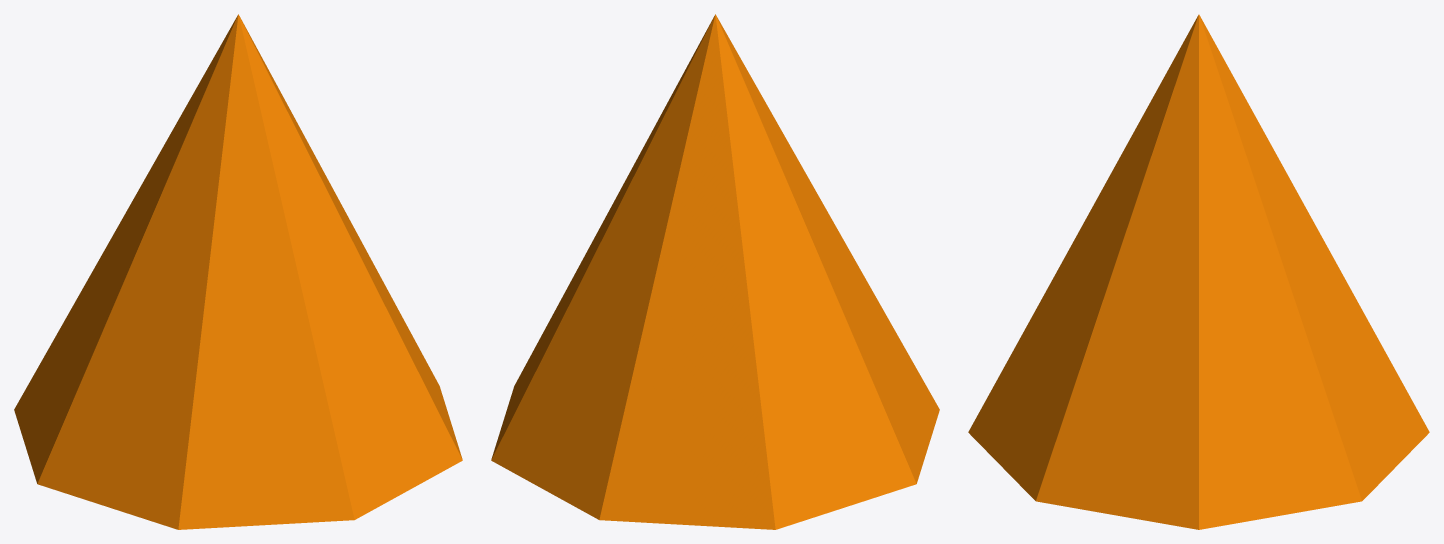
The picture shows the model from 3 angles, left to right: view 1: azimuth 30°, elevation 25°; view 2: azimuth 150°, elevation 25°; view 3: azimuth 270°, elevation 25°; orthographic projection.
Parts seen in each view (by area): view 1: Cone2; view 2: Cone2; view 3: Cone2.
Part boxes in pixels (<box>): Cone2: <box>14,14,462,529</box>; Cone2: <box>491,14,939,529</box>; Cone2: <box>968,14,1429,529</box>.
Size of the model in its own units: 18.32 by 18.32 by 18.32.
